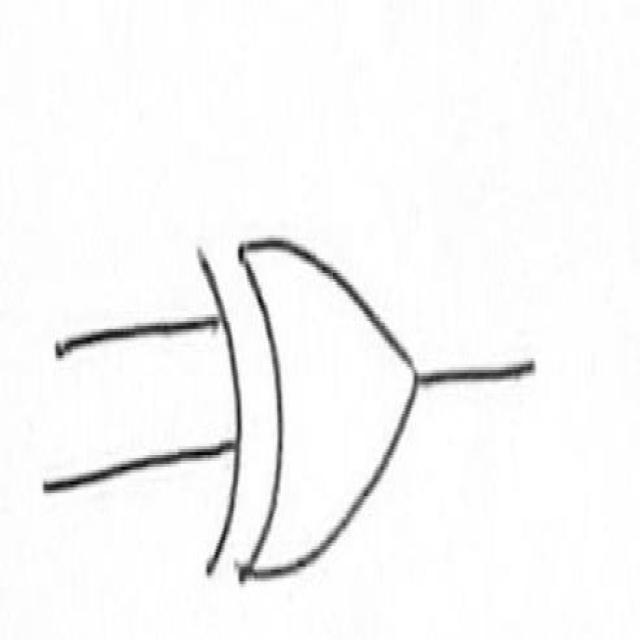XOR: (183, 207, 425, 594)
